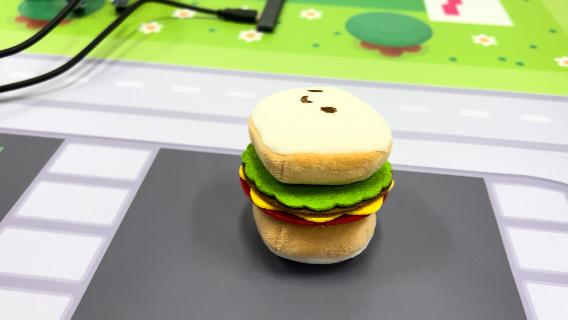sandwich: (236, 82, 397, 266)
